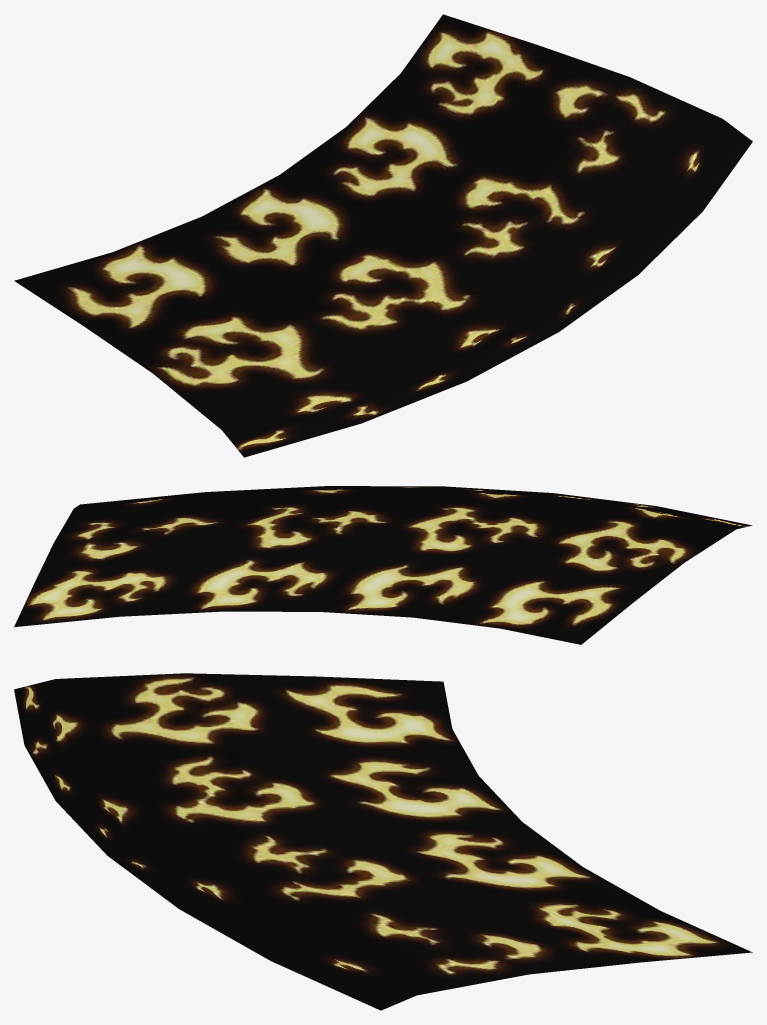
The model's file is 0292_fengwang_wing01.glb.
The picture shows the model from 3 angles, top to bottom: view 1: azimuth 30°, elevation 25°; view 2: azimuth 150°, elevation 25°; view 3: azimuth 270°, elevation 25°; orthographic projection. The views are drawn at different scales.
Bounding box in the file's own units: 2.2 × 0.0515 × 2.14.
Materials: 1 (1 with a texture image).
